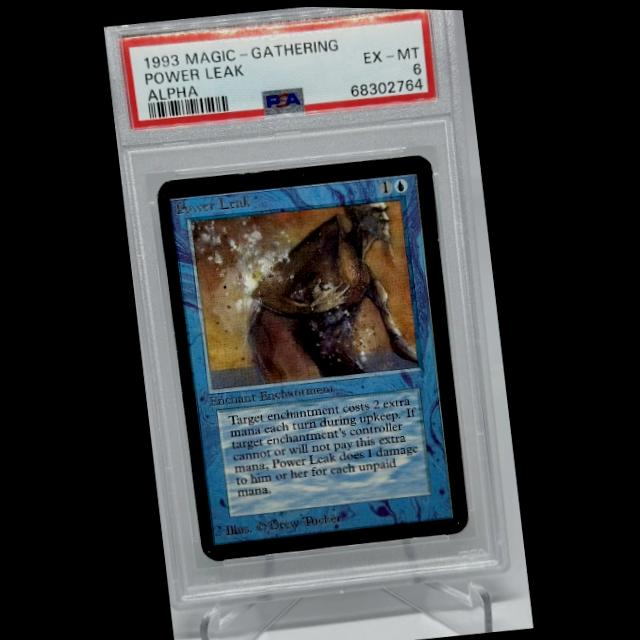card: (155, 151, 472, 561)
psa_label: (119, 7, 437, 129)
psa_slab: (102, 5, 512, 611)
